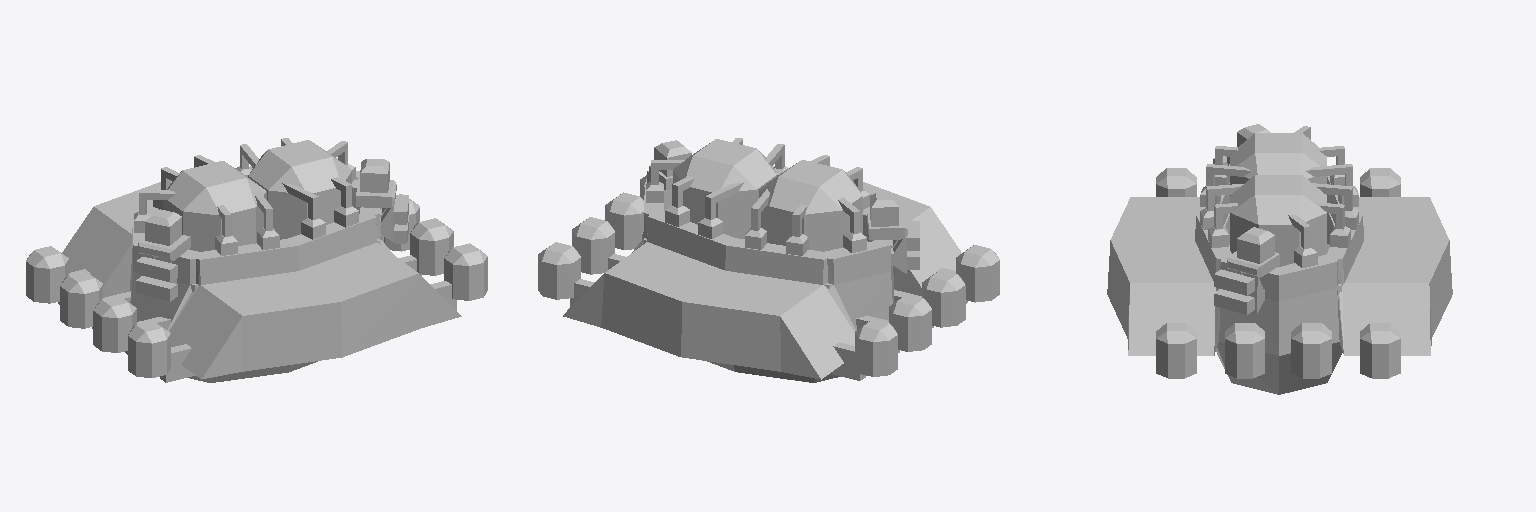
File: rumad_mmetalmakerlvl3.obj
3 views of the same model, side by side, from view 1: azimuth 30°, elevation 25°; view 2: azimuth 150°, elevation 25°; view 3: azimuth 270°, elevation 25° (orthographic).
Visible parts, largest first — view 1: Cube1_sep9, Cylinder8, Cylinder8_copy21, Cylinder8_copy20, Cube22, Cube58, Cube19, Cube62, Cube62_copy63, Cube52, Cube58_copy60, Cube52_copy56; view 2: Cube1_sep9, Cylinder8, Cylinder8_copy21, Cube22, Cylinder8_copy20, Cube19, Cube62, Cube52, Cube62_copy63, Cube58; view 3: Cube1_sep9, Cylinder8, Cube22, Cylinder8_copy20, Cylinder8_copy21, Cube58_copy60, Cube62_copy63, Cube52_copy56.
Part boxes in pixels (x1,y1,x2,y2): Cube1_sep9: (62,166,461,382); Cylinder8: (26,171,487,377); Cylinder8_copy21: (163,161,266,251); Cylinder8_copy20: (248,140,351,239); Cube22: (134,138,358,255); Cube58: (136,257,177,301); Cube19: (58,235,456,382); Cube62: (145,209,181,245); Cube62_copy63: (360,159,389,192); Cube52: (138,235,190,260); Cube58_copy60: (393,195,408,243); Cube52_copy56: (356,179,396,207); Cube1_sep9: (563,166,961,382); Cylinder8: (538,175,999,376); Cylinder8_copy21: (759,160,862,251); Cube22: (646,138,870,255); Cylinder8_copy20: (673,139,776,238); Cube19: (570,233,967,380); Cube62: (870,193,898,226); Cube52: (867,211,907,239); Cube62_copy63: (654,140,691,176); Cube58: (906,221,919,269); Cube1_sep9: (1107,176,1452,394); Cylinder8: (1156,168,1400,378); Cube22: (1200,126,1358,267); Cylinder8_copy20: (1230,175,1326,266); Cylinder8_copy21: (1230,133,1326,195); Cube58_copy60: (1214,269,1254,314); Cube62_copy63: (1237,227,1274,263); Cube52_copy56: (1227,251,1279,277).
Size of the model in its own units: 5.73 by 2.88 by 4.87.